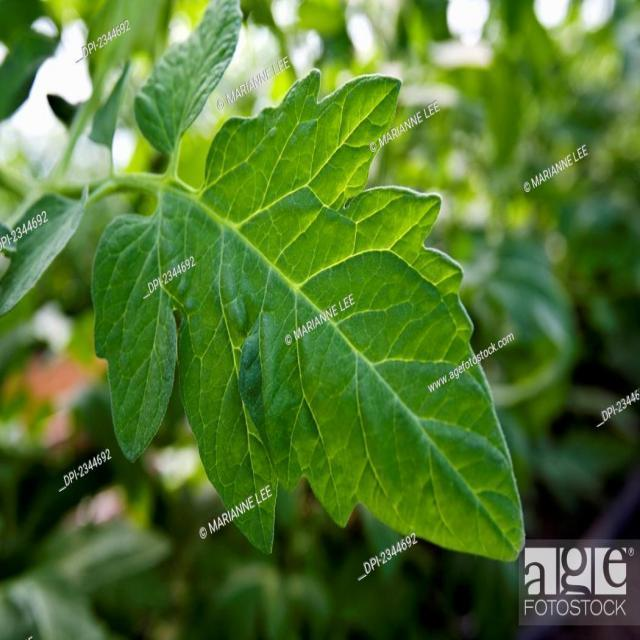Healthy Leaf: (105, 72, 518, 560), (137, 0, 240, 155)
